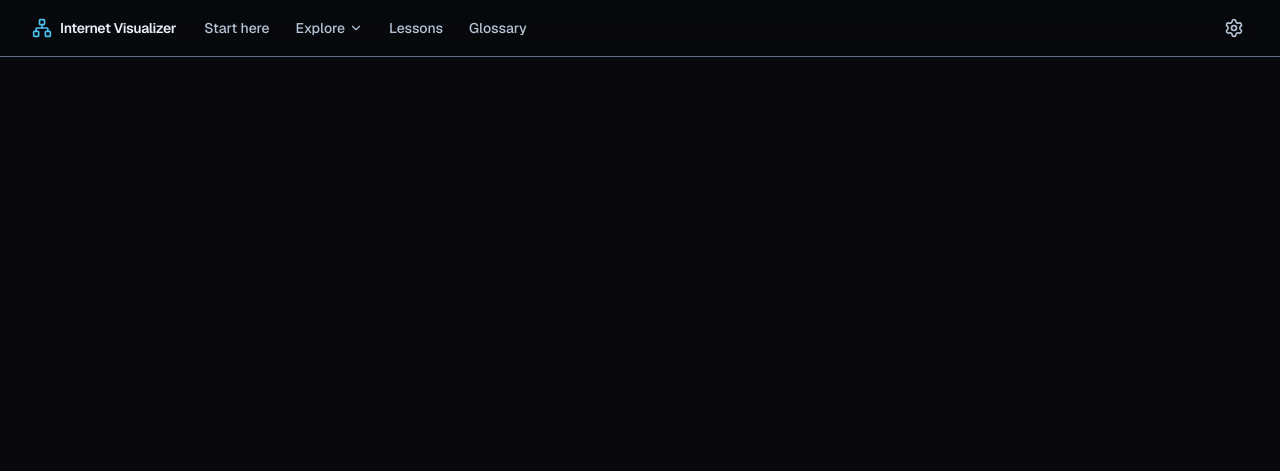
Scenario: TopNav › groups Explore by chapter, in registry order, with every module in it
Click the button "Explore" at (329, 28), box left=284, top=10, right=375, bottom=46
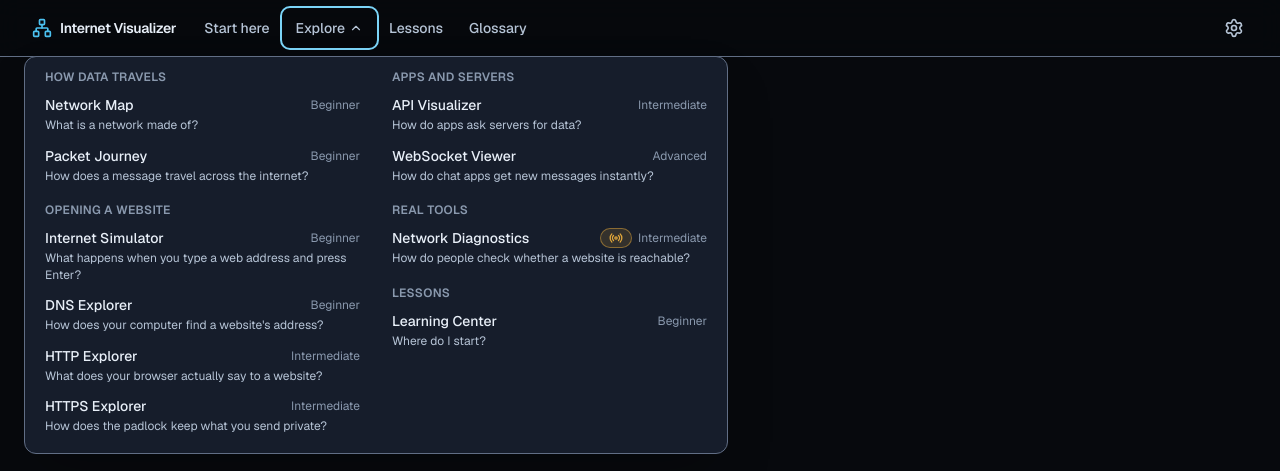
Now the number of menu items is 10
